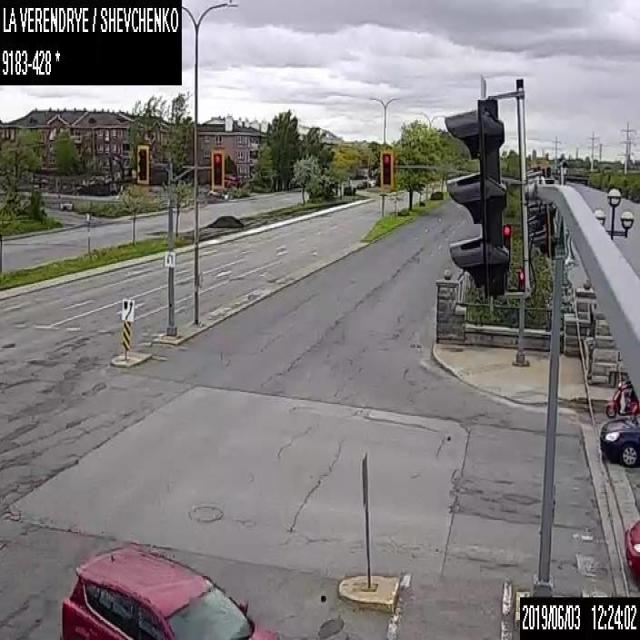vehicle: (60, 538, 281, 638), (598, 414, 639, 465), (605, 379, 639, 416), (622, 518, 639, 582)
